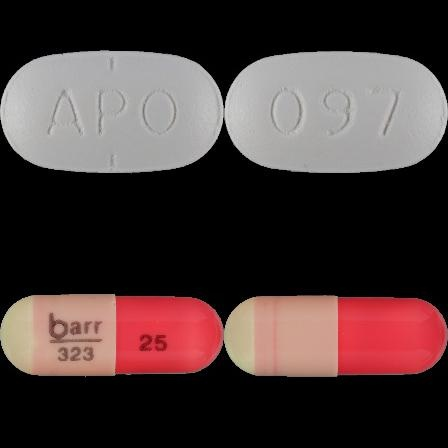68788-9694: (0, 0, 224, 224)
